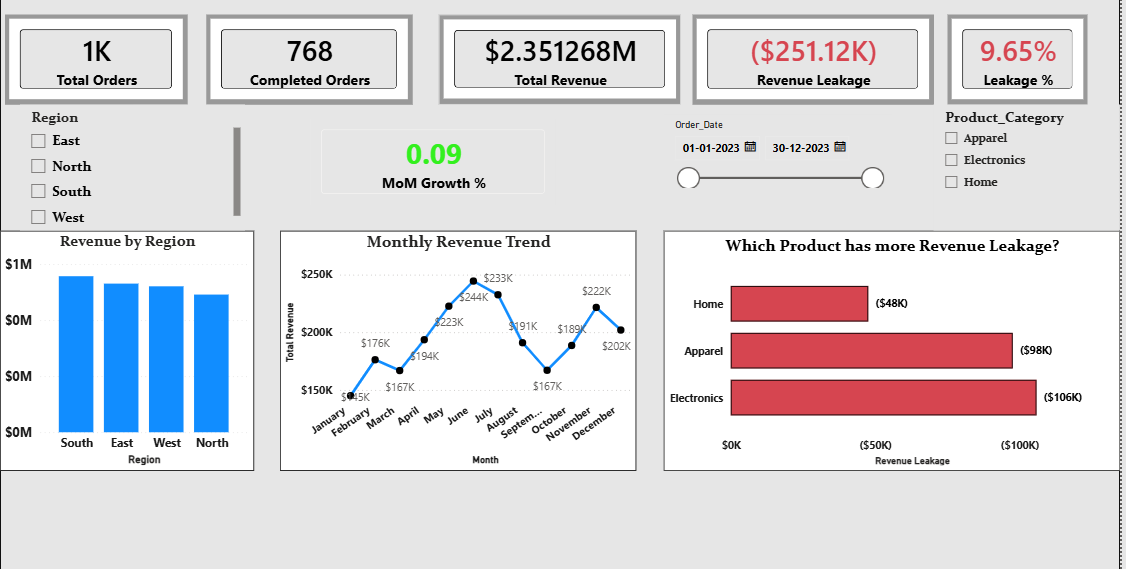

The dashboard page shown, as its layout file describes it:
{"tool":"powerbi","page":{"name":"Orders_Dashboard","canvas":[1280,720],"ordinal":0},"visuals":[{"type":"cardVisual","title":"Total Orders","fields":{"Data":["Orders_Data.Total Orders"]},"box":[5.7,20,208.6,102.9],"z":0},{"type":"cardVisual","fields":{"Data":["Orders_Data.Completed Orders"]},"box":[235.7,20,235.7,102.9],"z":1000},{"type":"cardVisual","fields":{"Data":["Orders_Data.Total Revenue"]},"box":[501.4,20,277.1,102.9],"z":2000},{"type":"cardVisual","fields":{"Data":["Orders_Data.Revenue Leakage"]},"box":[791.4,20,275.7,102.9],"z":3000},{"type":"cardVisual","fields":{"Data":["Orders_Data.Leakage %"]},"box":[1082.9,20,160,102.9],"z":4000},{"type":"clusteredColumnChart","title":"Revenue by Region","fields":{"Category":["Orders_Data.Region"],"Y":["Sum(Orders_Data.Revenue)"]},"box":[0,267.1,290,274.3],"z":5000},{"type":"lineChart","title":"Monthly Revenue Trend","fields":{"Category":["Orders_Data.Order_Date.Variation.Date Hierarchy.Month"],"Y":["Orders_Data.Total Revenue"]},"box":[320,267.1,407.1,274.3],"z":6000},{"type":"clusteredBarChart","title":"Which Product has more Revenue Leakage?","fields":{"Category":["Orders_Data.Product_Category"],"Y":["Orders_Data.Revenue Leakage"]},"box":[758.6,267.1,521.4,274.3],"z":7000},{"type":"slicer","fields":{"Values":["Orders_Data.Region"]},"box":[22.9,122.9,257.1,144.3],"z":8000},{"type":"slicer","fields":{"Values":["Orders_Data.Product_Category"]},"box":[1067.1,122.9,212.9,144.3],"z":9000},{"type":"cardVisual","fields":{"Data":["Orders_Data.MoM Growth %"]},"box":[350,134.3,290,108.6],"z":10000},{"type":"slicer","fields":{"Values":["Orders_Data.Order_Date"]},"box":[758.6,134.3,260,84.3],"z":11000}]}

Visuals, with their boxes on the page's 1280x720 design canvas (x1, y1, x2, y2). These are canvas units, not pixel positions in the 1126x569 screenshot, which may show the page scaled, cropped or inside an application window:
"Total Orders" cardVisual: {"x1": 6, "y1": 20, "x2": 214, "y2": 123}
cardVisual - Orders_Data.Completed Orders: {"x1": 236, "y1": 20, "x2": 471, "y2": 123}
cardVisual - Orders_Data.Total Revenue: {"x1": 501, "y1": 20, "x2": 778, "y2": 123}
cardVisual - Orders_Data.Revenue Leakage: {"x1": 791, "y1": 20, "x2": 1067, "y2": 123}
cardVisual - Orders_Data.Leakage %: {"x1": 1083, "y1": 20, "x2": 1243, "y2": 123}
"Revenue by Region" clusteredColumnChart: {"x1": 0, "y1": 267, "x2": 290, "y2": 541}
"Monthly Revenue Trend" lineChart: {"x1": 320, "y1": 267, "x2": 727, "y2": 541}
"Which Product has more Revenue Leakage?" clusteredBarChart: {"x1": 759, "y1": 267, "x2": 1280, "y2": 541}
slicer - Orders_Data.Region: {"x1": 23, "y1": 123, "x2": 280, "y2": 267}
slicer - Orders_Data.Product_Category: {"x1": 1067, "y1": 123, "x2": 1280, "y2": 267}
cardVisual - Orders_Data.MoM Growth %: {"x1": 350, "y1": 134, "x2": 640, "y2": 243}
slicer - Orders_Data.Order_Date: {"x1": 759, "y1": 134, "x2": 1019, "y2": 219}
